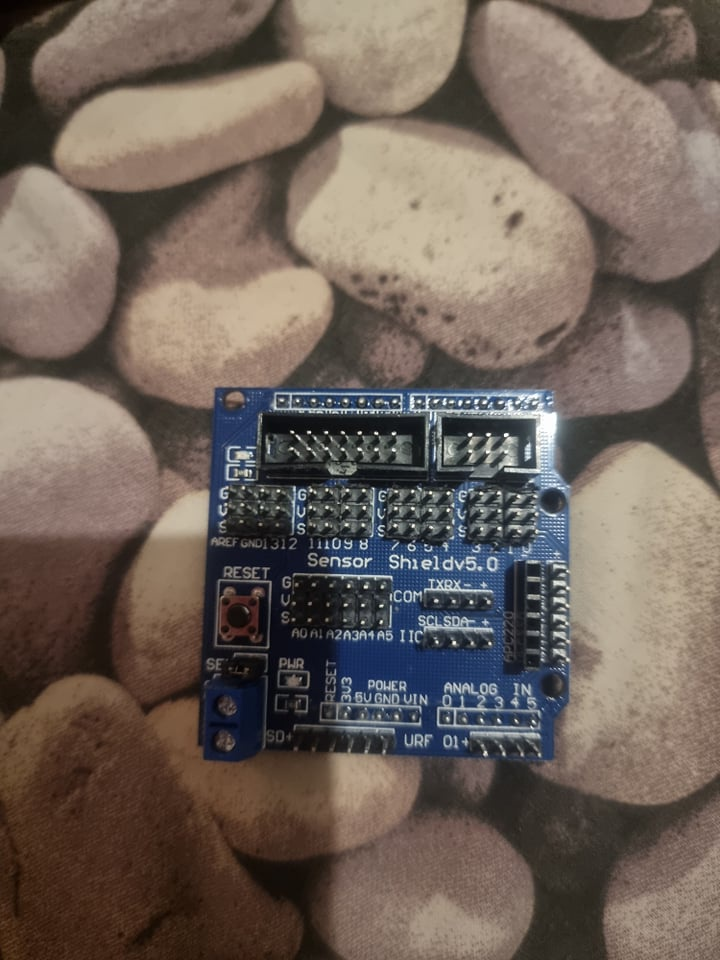5V EXPANSION: (191, 387, 574, 773)
